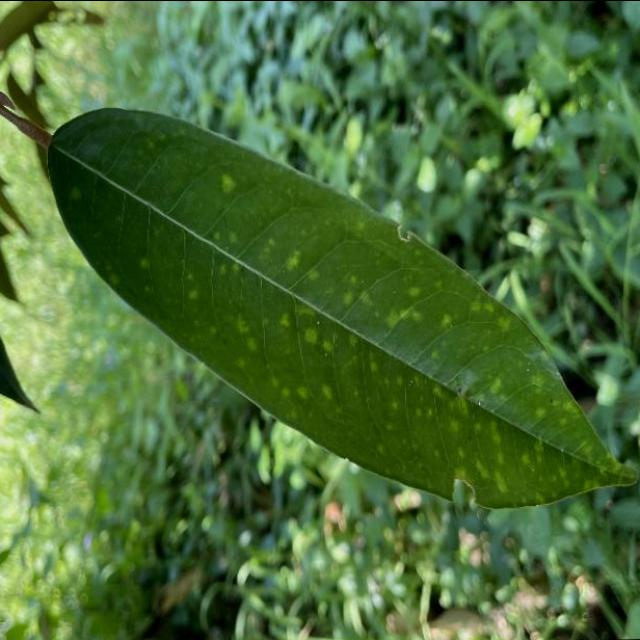Leaf Spot: (36, 91, 640, 524)
